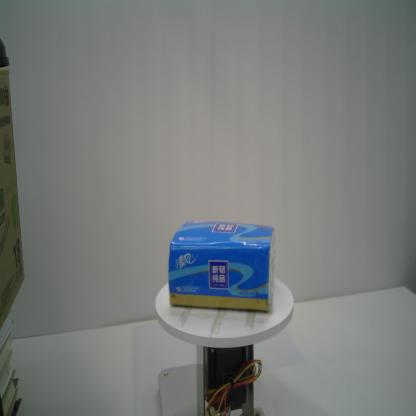Tissue: (167, 219, 277, 312)
